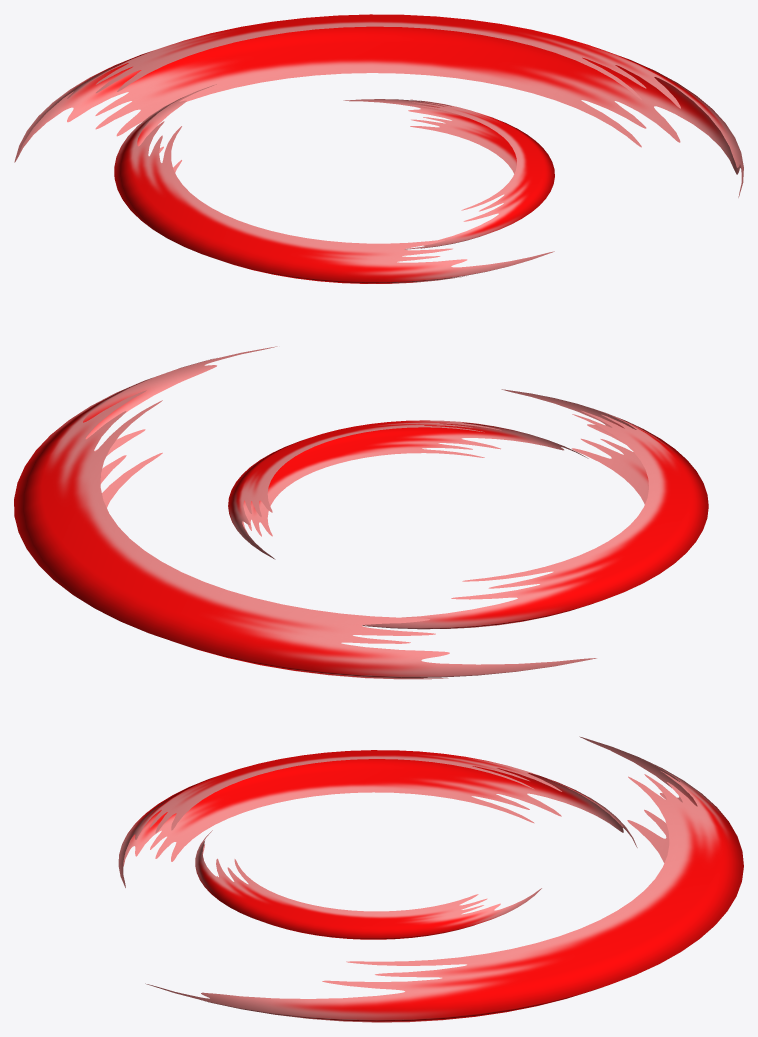
Rendered from philia_attack_slash.fbx.
The picture shows the model from 3 angles, top to bottom: view 1: azimuth 30°, elevation 25°; view 2: azimuth 150°, elevation 25°; view 3: azimuth 270°, elevation 25°; orthographic projection. The views are drawn at different scales.
Visible parts, largest first — view 1: polySurface2; view 2: polySurface2; view 3: polySurface2.
Part boxes in pixels (x1,y1,x2,y2): polySurface2: (14,14,743,283); polySurface2: (14,346,708,679); polySurface2: (118,736,743,1022).
Size of the model in its own units: 300 by 22.79 by 300.
